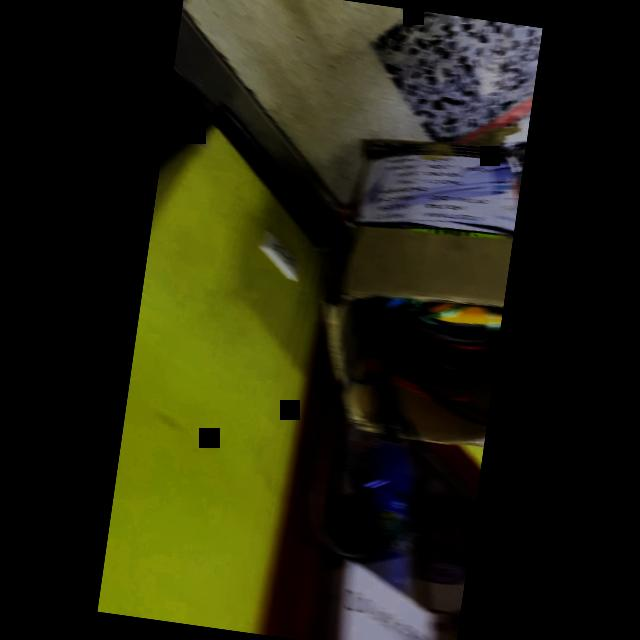cardboard_box: (286, 124, 526, 450)
